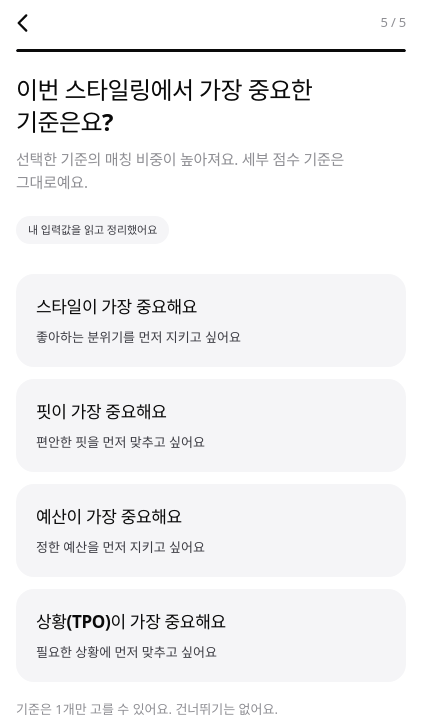
Test: user feature screens › renders a calculated Style DNA instead of fixed display-only data
The image size is (423, 717).
Step 1. Click the radio button labelled "좋아하는 분위기를 먼저 지키고 싶어요" → x=117, y=307, box [16,274,406,367]
(page scrolled)
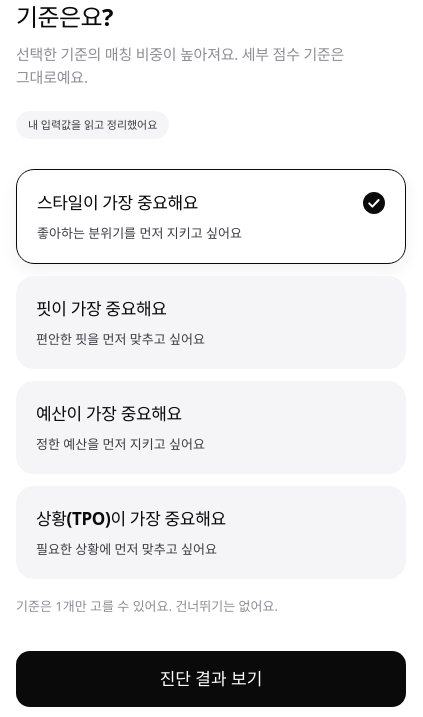
Step 2. Click the button "진단 결과 보기" → x=211, y=679, box [16,651,406,707]
(page scrolled)
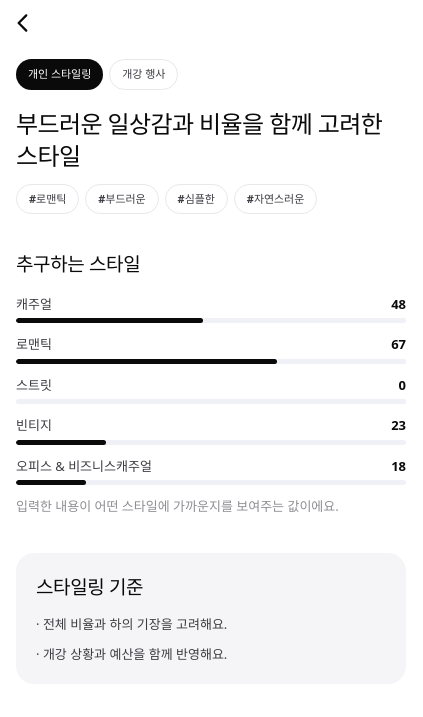
expect the heading "부드러운 일상감과 비율을 함께 고려한 스타일" is shown: met, box [16,108,406,172]
expect the text "67" is shown: met, box [391,335,406,355]
